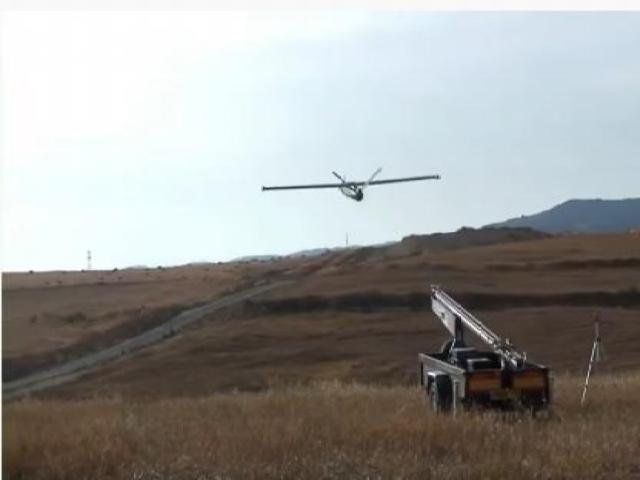uav: (260, 162, 438, 203)
